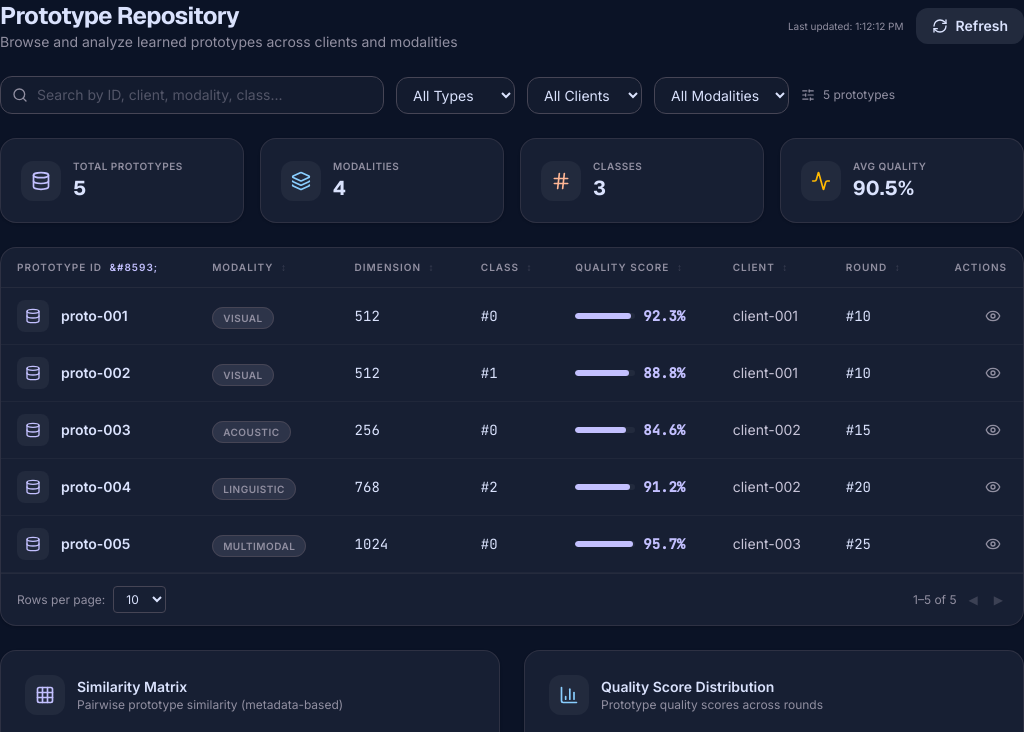
Test: Prototypes › Filtering › clears filters when Clear button is clicked
Type "proto-003" into the field with placeholder "Search by ID, client, modality, class..." at point(192, 95), box [0,76,384,114]
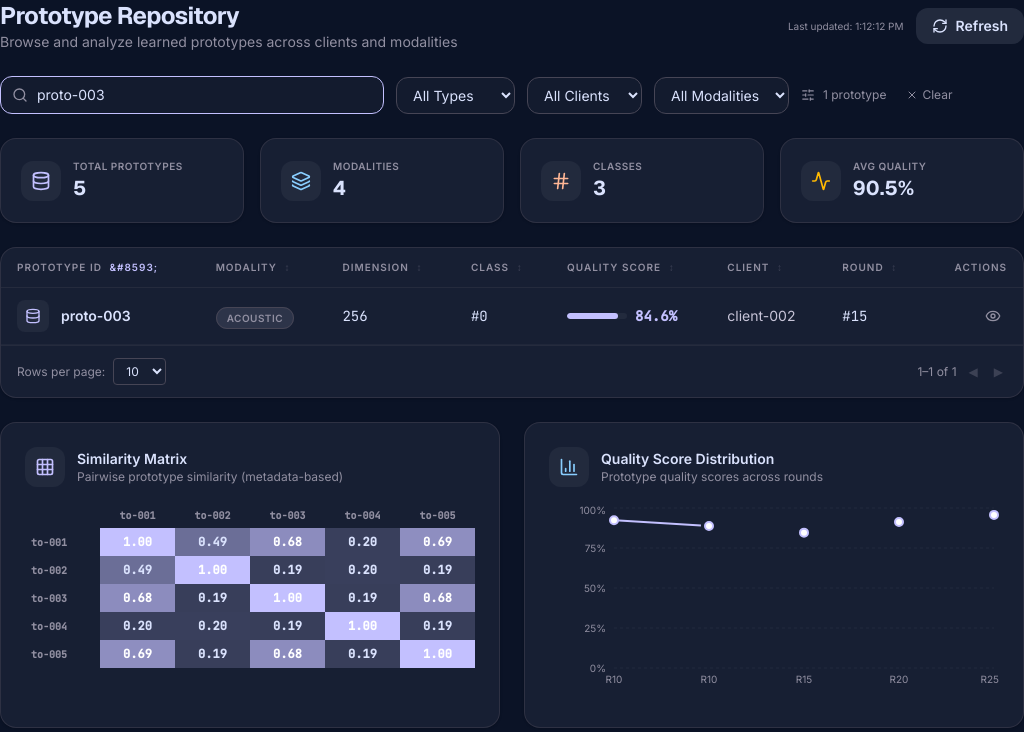
Expected: the text "1 prototype" is shown, [823,87,886,103]
Click the button "Clear" at point(929, 95), box [898,83,960,107]
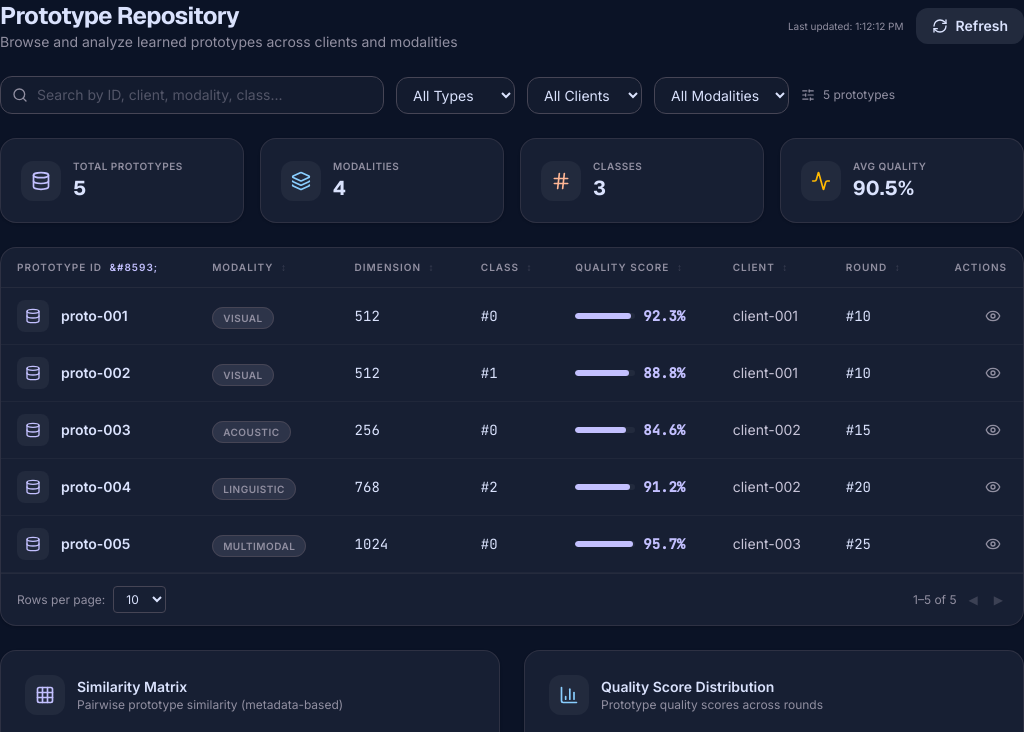
Expected: the text "5 prototypes" is shown, [823,87,895,103]
